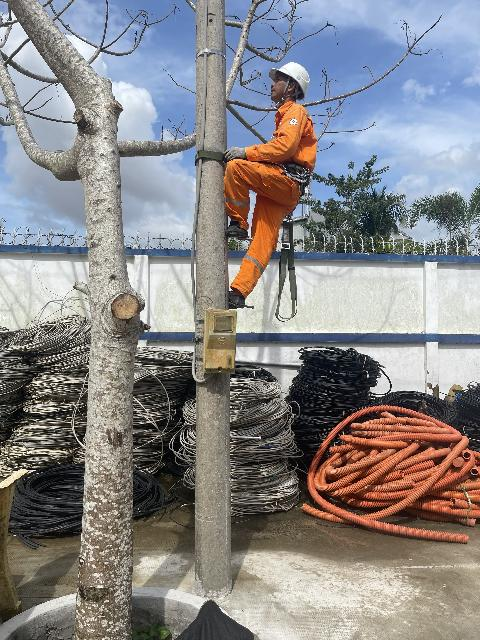gloves: (220, 137, 251, 167)
harness: (260, 153, 317, 193)
helmet: (268, 53, 323, 101)
shoes: (219, 282, 249, 317), (228, 216, 251, 245)
